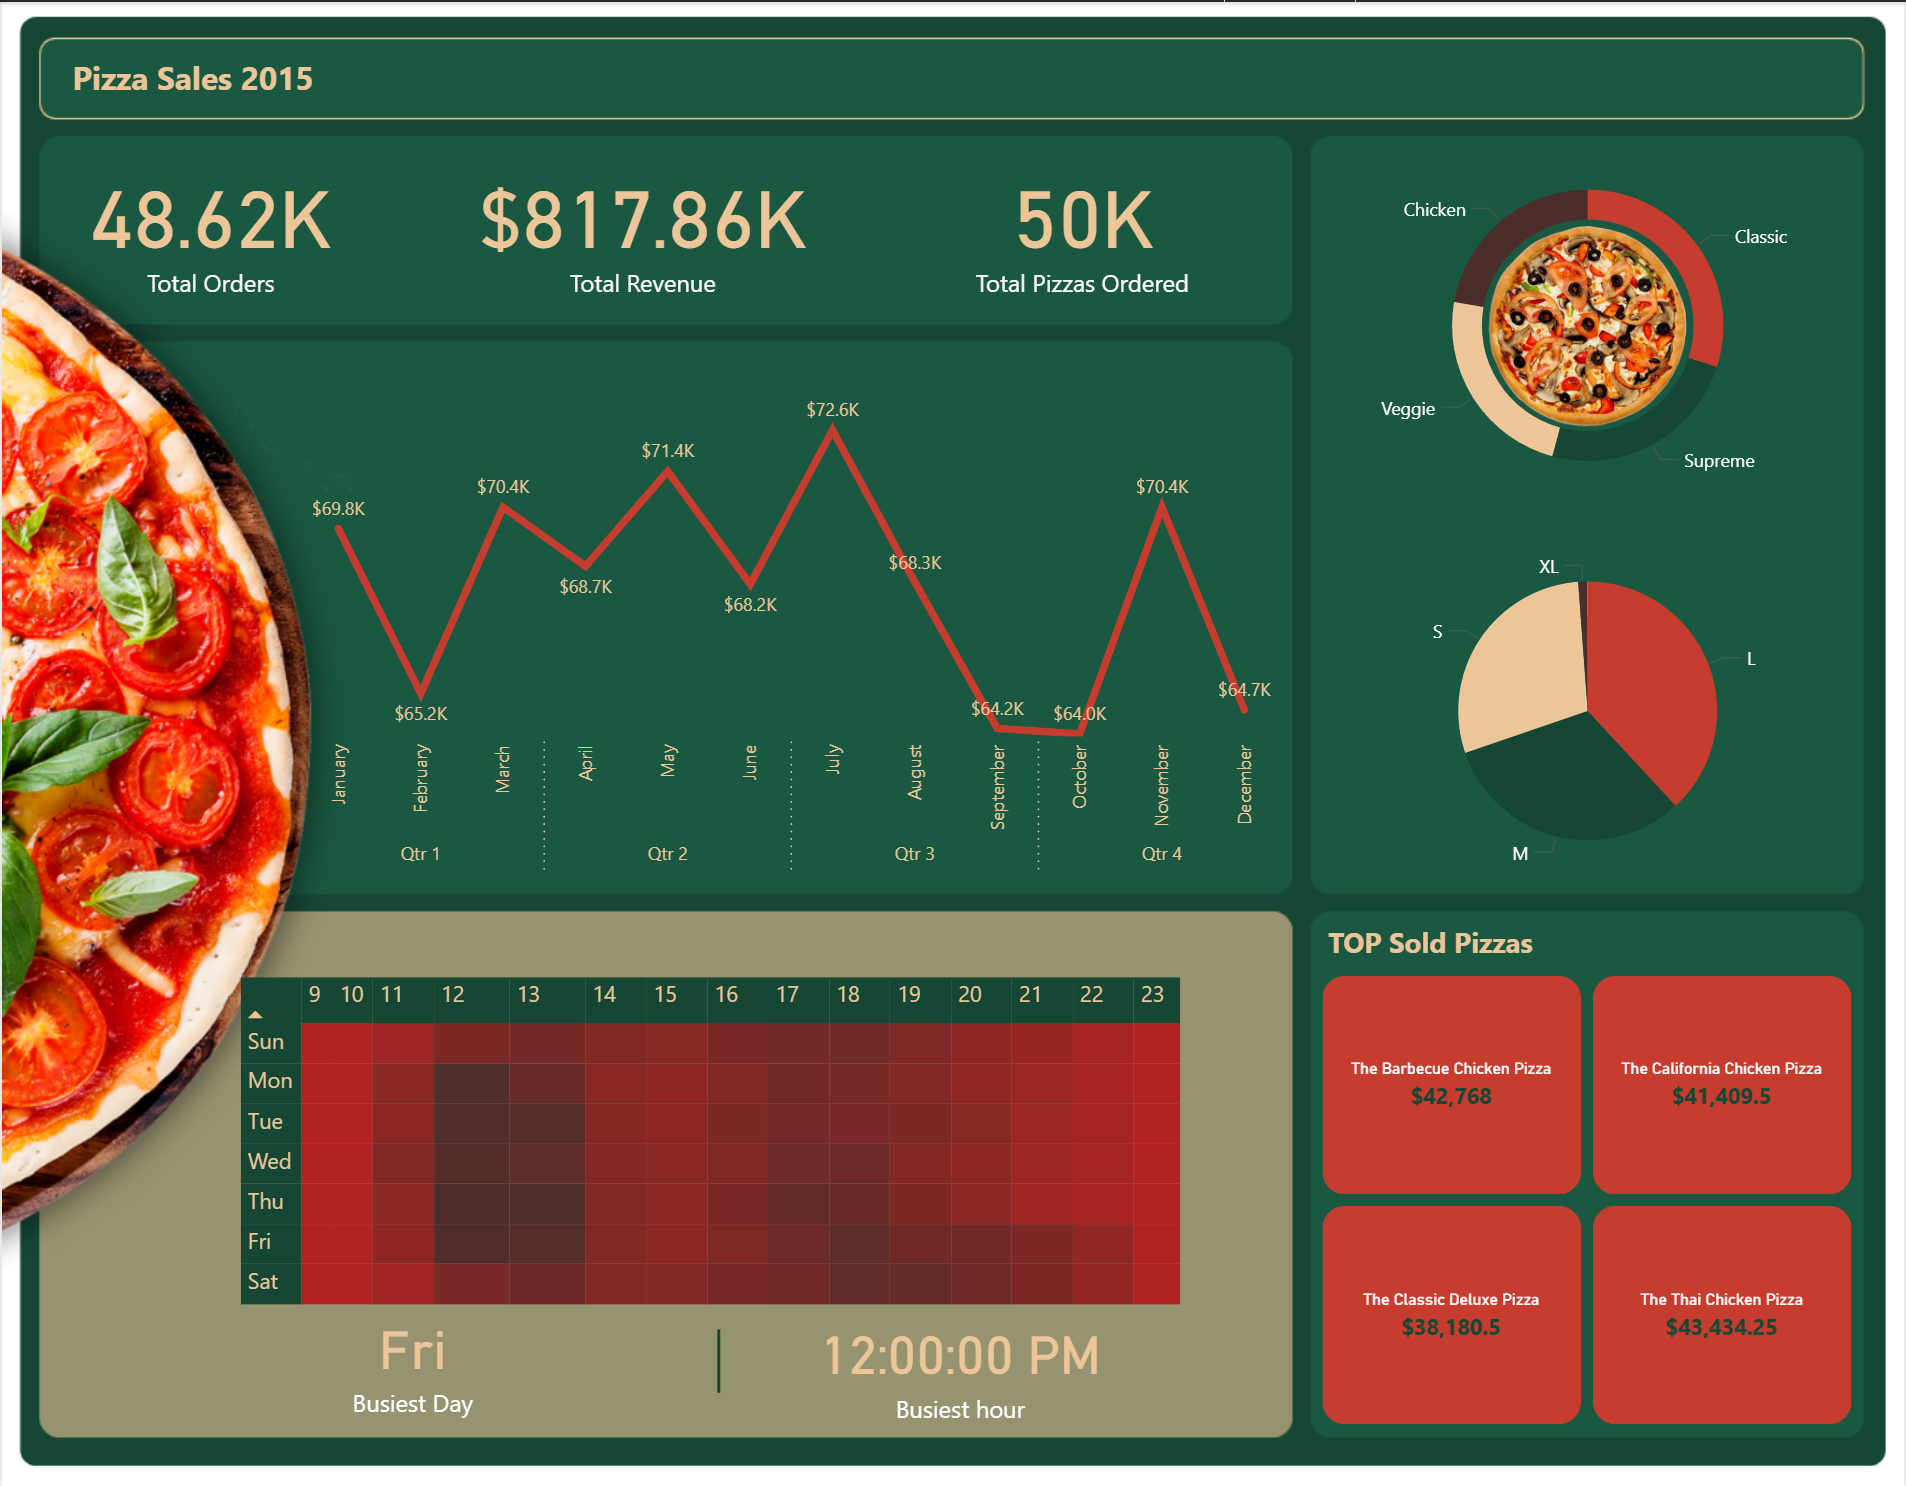

The dashboard page shown, as its layout file describes it:
{"tool":"powerbi","page":{"name":"Page 1","canvas":[1280,1000],"ordinal":0},"visuals":[{"type":"donutChart","fields":{"Category":["pizzas.category"],"Y":["CountNonNull(order_details.order_details_id)"]},"box":[877.9,89.2,377.2,256.8],"z":0},{"type":"card","fields":{"Values":["CountNonNull(order_details.order_details_id)"]},"box":[0,0,280.4,299.8],"z":1000},{"type":"pieChart","fields":{"Category":["pizzas.size"],"Y":["CountNonNull(order_details.order_details_id)"]},"box":[877.9,355.7,377.2,242.8],"z":2000},{"type":"image","box":[983.2,127.9,167.6,179.4],"z":3000},{"type":"card","fields":{"Values":["Sum(order_details.Total)"]},"box":[291.2,0,280.4,299.8],"z":4000},{"type":"card","fields":{"Values":["Sum(order_details.quantity)"]},"box":[586.7,0,280.4,299.8],"z":5000},{"type":"lineChart","fields":{"Y":["Sum(order_details.Total)"],"Category":["Calendar.Date.Variation.Date Hierarchy.Quarter","Calendar.Date.Variation.Date Hierarchy.Month","Calendar.Date.Variation.Date Hierarchy.Day"]},"box":[198.8,239.6,664,355.7],"z":6000},{"type":"advancedSlicerVisual","fields":{"Values":["pizzas.name"]},"box":[883.2,650.1,367.5,312.7],"z":7000},{"type":"textbox","box":[887.5,614.6,198.8,37.6],"z":8000},{"type":"pivotTable","fields":{"Rows":["Calendar.Day Name"],"Values":["Sum(order_details.quantity)"],"Columns":["order_details.hour num"]},"box":[155.8,651.2,653.3,261.1],"z":9000},{"type":"card","fields":{"Values":["Min(Calendar.Day Name)"]},"box":[125.7,856.4,299.8,116],"z":12002},{"type":"card","fields":{"Values":["Min(order_details.hour)"]},"box":[494.3,863.9,299.8,107.5],"z":12003},{"type":"shape","box":[442.7,892.9,78.4,43],"z":12004},{"type":"textbox","box":[41.9,30.1,198.8,296.6],"z":12005}]}

Visuals, with their boxes in screenshot pixels (x1, y1, x2, y2), scaled from the page's 1280x1000 canvas onto the 1906x1486 screenshot:
donutChart - pizzas.category x CountNonNull(order_details.order_details_id): (left=1307, top=133, right=1869, bottom=514)
card - CountNonNull(order_details.order_details_id): (left=0, top=0, right=418, bottom=446)
pieChart - pizzas.size x CountNonNull(order_details.order_details_id): (left=1307, top=529, right=1869, bottom=889)
image: (left=1464, top=190, right=1714, bottom=457)
card - Sum(order_details.Total): (left=434, top=0, right=851, bottom=446)
card - Sum(order_details.quantity): (left=874, top=0, right=1291, bottom=446)
lineChart - Sum(order_details.Total) x Calendar.Date.Variation.Date Hierarchy.Quarter: (left=296, top=356, right=1285, bottom=885)
advancedSlicerVisual - pizzas.name: (left=1315, top=966, right=1862, bottom=1431)
textbox: (left=1322, top=913, right=1618, bottom=969)
pivotTable - Calendar.Day Name x Sum(order_details.quantity): (left=232, top=968, right=1205, bottom=1356)
card - Min(Calendar.Day Name): (left=187, top=1273, right=634, bottom=1445)
card - Min(order_details.hour): (left=736, top=1284, right=1182, bottom=1444)
shape: (left=659, top=1327, right=776, bottom=1391)
textbox: (left=62, top=45, right=358, bottom=485)
